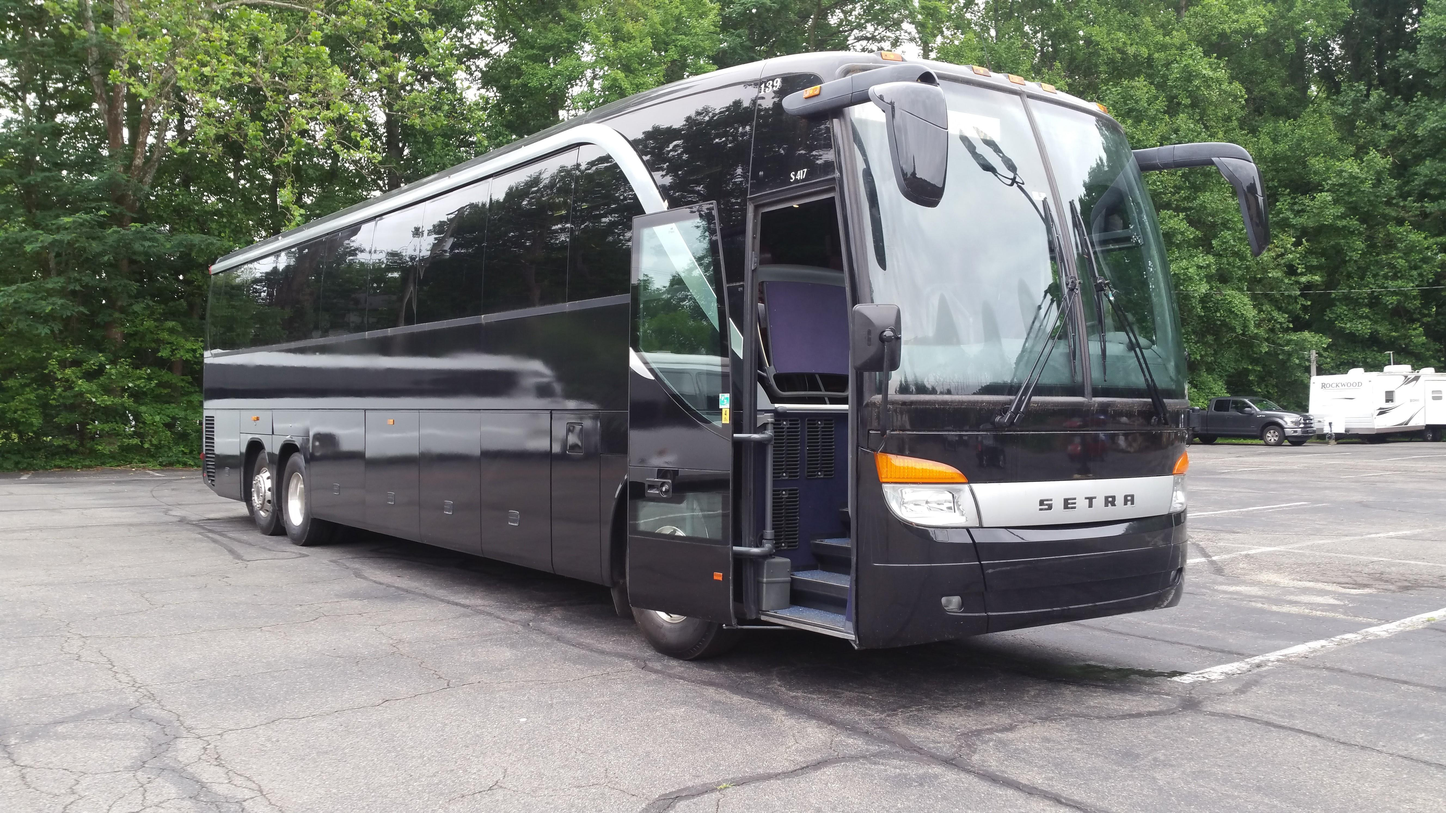Bus: (197, 50, 1260, 654)
